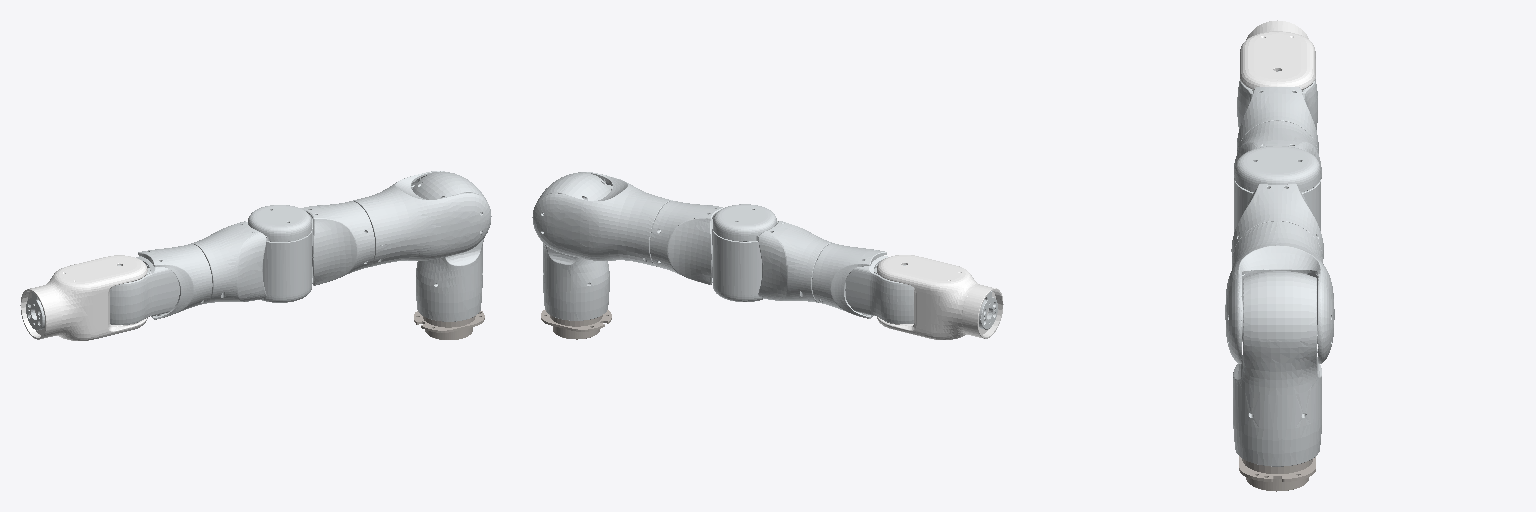
robot.urdf — a1_r_urdf:
<?xml version='1.0' encoding='utf-8'?>
<robot name="a1_r_urdf">
  <mujoco>
    <compiler meshdir="." balanceinertia="true" discardvisual="false" />
  </mujoco>
  <link name="base_link">
    <inertial>
      <origin xyz="-2.12826196715557e-05 -5.52026218782097e-05 0.0171427754448579" rpy="0 0 0" />
      <mass value="0.401650168942009" />
      <inertia ixx="0.000237179758518644" ixy="1.22424408206913E-07" ixz="1.57836402935181E-07" iyy="0.000248236117612461" iyz="7.93541349379853E-07" izz="0.000305122605170233" />
    </inertial>
    <visual>
      <origin xyz="0 0 0" rpy="0 0 0" />
      <geometry>
        <mesh filename="./meshes/a1_r/base_link.STL" />
      </geometry>
      <material name="">
        <color rgba="0.776470588235294 0.756862745098039 0.737254901960784 1" />
      </material>
    </visual>
    <collision>
      <origin xyz="0 0 0" rpy="0 0 0" />
      <geometry>
        <mesh filename="./meshes/a1_r/base_link.STL" />
      </geometry>
    </collision>
  </link>
  <link name="Link1">
    <inertial>
      <origin xyz="0.000104793909039569 0.000878025489583305 0.0937688680157419" rpy="0 0 0" />
      <mass value="0.438675872181416" />
      <inertia ixx="0.00060517294321352" ixy="3.1414337686272E-07" ixz="9.46425739217291E-07" iyy="0.000501491467720591" iyz="-3.30016145254686E-05" izz="0.00025580993277449" />
    </inertial>
    <visual>
      <origin xyz="0 0 0" rpy="0 0 0" />
      <geometry>
        <mesh filename="./meshes/a1_r/Link1.STL" />
      </geometry>
      <material name="">
        <color rgba="0.898039215686275 0.917647058823529 0.929411764705882 1" />
      </material>
    </visual>
    <collision>
      <origin xyz="0 0 0" rpy="0 0 0" />
      <geometry>
        <mesh filename="./meshes/a1_r/Link1.STL" />
      </geometry>
    </collision>
  </link>
  <joint name="joint1-a1_r" type="revolute">
    <origin xyz="-0.0 0.0 0.0125" rpy="0.0 -0.0 -0.0" />
    <parent link="base_link" />
    <child link="Link1" />
    <axis xyz="0 0 1" />
    <limit lower="-1.04" upper="3.14" effort="15" velocity="30" />
  </joint>
  <link name="Link2">
    <inertial>
      <origin xyz="-4.66303482215547e-05 -0.0610765811025605 0.00481122218899704" rpy="0 0 0" />
      <mass value="0.387770755219132" />
      <inertia ixx="0.000597204372907025" ixy="8.36763420077846E-07" ixz="-2.69873967501812E-08" iyy="0.000348292487571024" iyz="-2.93717934653094E-05" izz="0.000403661570691348" />
    </inertial>
    <visual>
      <origin xyz="0 0 0" rpy="0 0 0" />
      <geometry>
        <mesh filename="./meshes/a1_r/Link2.STL" />
      </geometry>
      <material name="">
        <color rgba="0.898039215686275 0.917647058823529 0.929411764705882 1" />
      </material>
    </visual>
    <collision>
      <origin xyz="0 0 0" rpy="0 0 0" />
      <geometry>
        <mesh filename="./meshes/a1_r/Link2.STL" />
      </geometry>
    </collision>
  </link>
  <joint name="joint2-a1_r" type="revolute">
    <origin xyz="-0.0 0.0 0.12745" rpy="1.5708 1.5708 -0.0" />
    <parent link="Link1" />
    <child link="Link2" />
    <axis xyz="0 0 1" />
    <limit lower="-3.14" upper="0.26" effort="15" velocity="30" />
  </joint>
  <link name="Link3">
    <inertial>
      <origin xyz="-1.43987309591522e-05 0.00178404133280441 0.109669668659996" rpy="0 0 0" />
      <mass value="0.407125793506889" />
      <inertia ixx="0.000446520666780017" ixy="-8.24275545731468E-09" ixz="1.61110520939152E-07" iyy="0.000343044757246363" iyz="-1.30123176926368E-05" izz="0.000286204871222088" />
    </inertial>
    <visual>
      <origin xyz="0 0 0" rpy="0 0 0" />
      <geometry>
        <mesh filename="./meshes/a1_r/Link3.STL" />
      </geometry>
      <material name="">
        <color rgba="0.898039215686275 0.917647058823529 0.929411764705882 1" />
      </material>
    </visual>
    <collision>
      <origin xyz="0 0 0" rpy="0 0 0" />
      <geometry>
        <mesh filename="./meshes/a1_r/Link3.STL" />
      </geometry>
    </collision>
  </link>
  <joint name="joint3-a1_r" type="revolute">
    <origin xyz="-0.0 -0.09325 -0.0001" rpy="1.5708 1.5708 -0.0" />
    <parent link="Link2" />
    <child link="Link3" />
    <axis xyz="0 0 1" />
    <limit lower="-2.76" upper="2.76" effort="15" velocity="30" />
  </joint>
  <link name="Link4">
    <inertial>
      <origin xyz="9.99808131922311e-07 0.0625047132640995 0.00555704355349793" rpy="0 0 0" />
      <mass value="0.252142897202372" />
      <inertia ixx="0.000178779070280237" ixy="-6.97346977234495E-09" ixz="-7.78451594087313E-10" iyy="0.000146134678616042" iyz="3.30147349592292E-05" izz="0.000165597697680657" />
    </inertial>
    <visual>
      <origin xyz="0 0 0" rpy="0 0 0" />
      <geometry>
        <mesh filename="./meshes/a1_r/Link4.STL" />
      </geometry>
      <material name="">
        <color rgba="0.898039215686275 0.917647058823529 0.929411764705882 1" />
      </material>
    </visual>
    <collision>
      <origin xyz="0 0 0" rpy="0 0 0" />
      <geometry>
        <mesh filename="./meshes/a1_r/Link4.STL" />
      </geometry>
    </collision>
  </link>
  <joint name="joint4-a1_r" type="revolute">
    <origin xyz="-0.0 -0.000999999996676215 0.140249999995695" rpy="1.57079632678358 -0.0 -6.73358220455809e-05" />
    <parent link="Link3" />
    <child link="Link4" />
    <axis xyz="0 0 1" />
    <limit lower="-1.92" upper="1.92" effort="3" velocity="30" />
  </joint>
  <link name="Link5">
    <inertial>
      <origin xyz="-2.1819607269304e-06 0.000940045309240356 0.0983077176130554" rpy="0 0 0" />
      <mass value="0.333953527048094" />
      <inertia ixx="0.000324219442352689" ixy="-1.17918294445498E-09" ixz="-7.21118252231978E-08" iyy="0.000299078218859742" iyz="5.7924183985276E-06" izz="0.000161241194938864" />
    </inertial>
    <visual>
      <origin xyz="0 0 0" rpy="0 0 0" />
      <geometry>
        <mesh filename="./meshes/a1_r/Link5.STL" />
      </geometry>
      <material name="">
        <color rgba="0.898039215686275 0.917647058823529 0.929411764705882 1" />
      </material>
    </visual>
    <collision>
      <origin xyz="0 0 0" rpy="0 0 0" />
      <geometry>
        <mesh filename="./meshes/a1_r/Link5.STL" />
      </geometry>
    </collision>
  </link>
  <joint name="joint5-a1_r" type="revolute">
    <origin xyz="-0.0 0.08800000000195 -0.00100000000141642" rpy="-1.57079632679444 -0.0 -0.0" />
    <parent link="Link4" />
    <child link="Link5" />
    <axis xyz="0 0 1" />
    <limit lower="-2.23" upper="2.23" effort="3" velocity="30" />
  </joint>
  <link name="Link6">
    <inertial>
      <origin xyz="1.41083567195476e-05 -0.0616500007920044 0.00592126579182656" rpy="0 0 0" />
      <mass value="0.289938784061927" />
      <inertia ixx="0.000346578289881221" ixy="-3.69413578027761E-07" ixz="1.71707534440891E-07" iyy="0.000183154957217547" iyz="-3.25615026642568E-05" izz="0.000268358636952706" />
    </inertial>
    <visual>
      <origin xyz="0 0 0" rpy="0 0 0" />
      <geometry>
        <mesh filename="./meshes/a1_r/Link6.STL" />
      </geometry>
      <material name="">
        <color rgba="1 1 1 1" />
      </material>
    </visual>
    <collision>
      <origin xyz="0 0 0" rpy="0 0 0" />
      <geometry>
        <mesh filename="./meshes/a1_r/Link6.STL" />
      </geometry>
    </collision>
  </link>
  <joint name="joint6-a1_r" type="revolute">
    <origin xyz="-0.0 0.0005 0.133" rpy="-1.5708 -0.0 -0.0" />
    <parent link="Link5" />
    <child link="Link6" />
    <axis xyz="0 0 1" />
    <limit lower="-1.57" upper="1.57" effort="3" velocity="30" />
  </joint>
  <link name="Link7">
    <inertial>
      <!-- v1 placeholder: mass=0.20 kg (real flange assembly weighs 150-250 g;
           CAD export lists 17.8 g which drives adaptive kp to zero for joint 7).
           Inertia scaled linearly (11.27x) from original CAD values.
           TODO: replace with measured flange mass + identified inertia. -->
      <origin xyz="1.47613369245068e-07 -0.00220208936053254 0.00293052049190767" rpy="0 0 0" />
      <mass value="0.20" />
      <inertia ixx="3.17582E-05" ixy="-7.00790E-10" ixz="1.46490E-12" iyy="2.13489E-05" iyz="2.51150E-08" izz="5.19434E-05" />
    </inertial>
    <visual>
      <origin xyz="0 0 0" rpy="0 0 0" />
      <geometry>
        <mesh filename="./meshes/a1_r/Link7.STL" />
      </geometry>
      <material name="">
        <color rgba="0.898039215686275 0.917647058823529 0.929411764705882 1" />
      </material>
    </visual>
    <collision>
      <origin xyz="0 0 0" rpy="0 0 0" />
      <geometry>
        <mesh filename="./meshes/a1_r/Link7.STL" />
      </geometry>
    </collision>
  </link>
  <joint name="joint7-a1_r" type="revolute">
    <origin xyz="-0.0 -0.112 0.00025" rpy="1.5708 -0.0 -0.0" />
    <parent link="Link6" />
    <child link="Link7" />
    <axis xyz="0 0 1" />
    <limit lower="-2.76" upper="2.76" effort="3" velocity="30" />
  </joint>
</robot>

--- Facts derived from the render (not from the file) ---
The picture shows the robot from 3 angles, left to right: view 1: azimuth 30°, elevation 25°; view 2: azimuth 150°, elevation 25°; view 3: azimuth 270°, elevation 25°; orthographic projection.
Robot: a1_r_urdf — 8 links, 7 joints (7 revolute); root link base_link; default pose: all joints at 0.
Visible links, largest first — view 1: Link2, Link3, Link6, Link4, Link5, Link1, base_link; view 2: Link2, Link3, Link6, Link4, Link5, Link1, base_link; view 3: Link1, Link2, Link4, Link6, Link3, Link5, base_link.
Boxes of the visible links, left/top/right/bottom form: Link2: left=353, top=171, right=491, bottom=266; Link3: left=261, top=201, right=374, bottom=302; Link6: left=20, top=255, right=147, bottom=340; Link4: left=191, top=205, right=311, bottom=303; Link5: left=110, top=244, right=212, bottom=324; Link1: left=412, top=171, right=486, bottom=321; base_link: left=414, top=311, right=484, bottom=339; Link2: left=532, top=172, right=672, bottom=266; Link3: left=650, top=201, right=762, bottom=301; Link6: left=877, top=255, right=1003, bottom=339; Link4: left=713, top=204, right=831, bottom=302; Link5: left=812, top=243, right=913, bottom=323; Link1: left=537, top=172, right=610, bottom=320; base_link: left=541, top=310, right=611, bottom=339; Link1: left=1233, top=271, right=1321, bottom=466; Link2: left=1225, top=221, right=1334, bottom=363; Link4: left=1234, top=121, right=1321, bottom=191; Link6: left=1240, top=20, right=1315, bottom=89; Link3: left=1231, top=178, right=1323, bottom=258; Link5: left=1237, top=70, right=1318, bottom=152; base_link: left=1239, top=456, right=1315, bottom=491.
Size in the robot's own frame: 0.6188 by 0.0979 by 0.2056 metres.
Meshes: 8 distinct files referenced, 8 mesh visuals loaded (8 binary STL).
